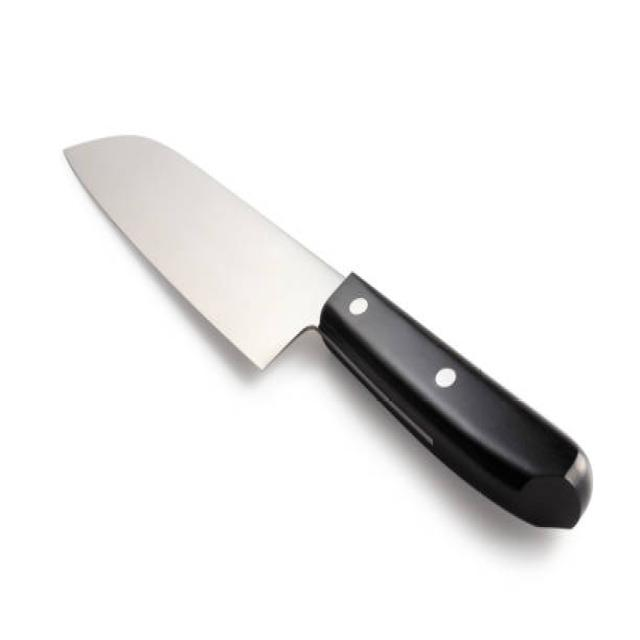knife: (59, 114, 604, 544)
